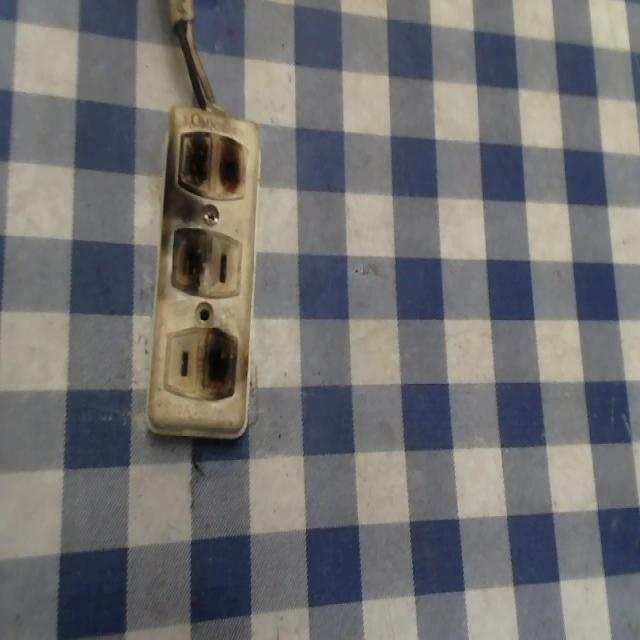-: (176, 124, 250, 199), (166, 221, 214, 304), (197, 324, 237, 412)
